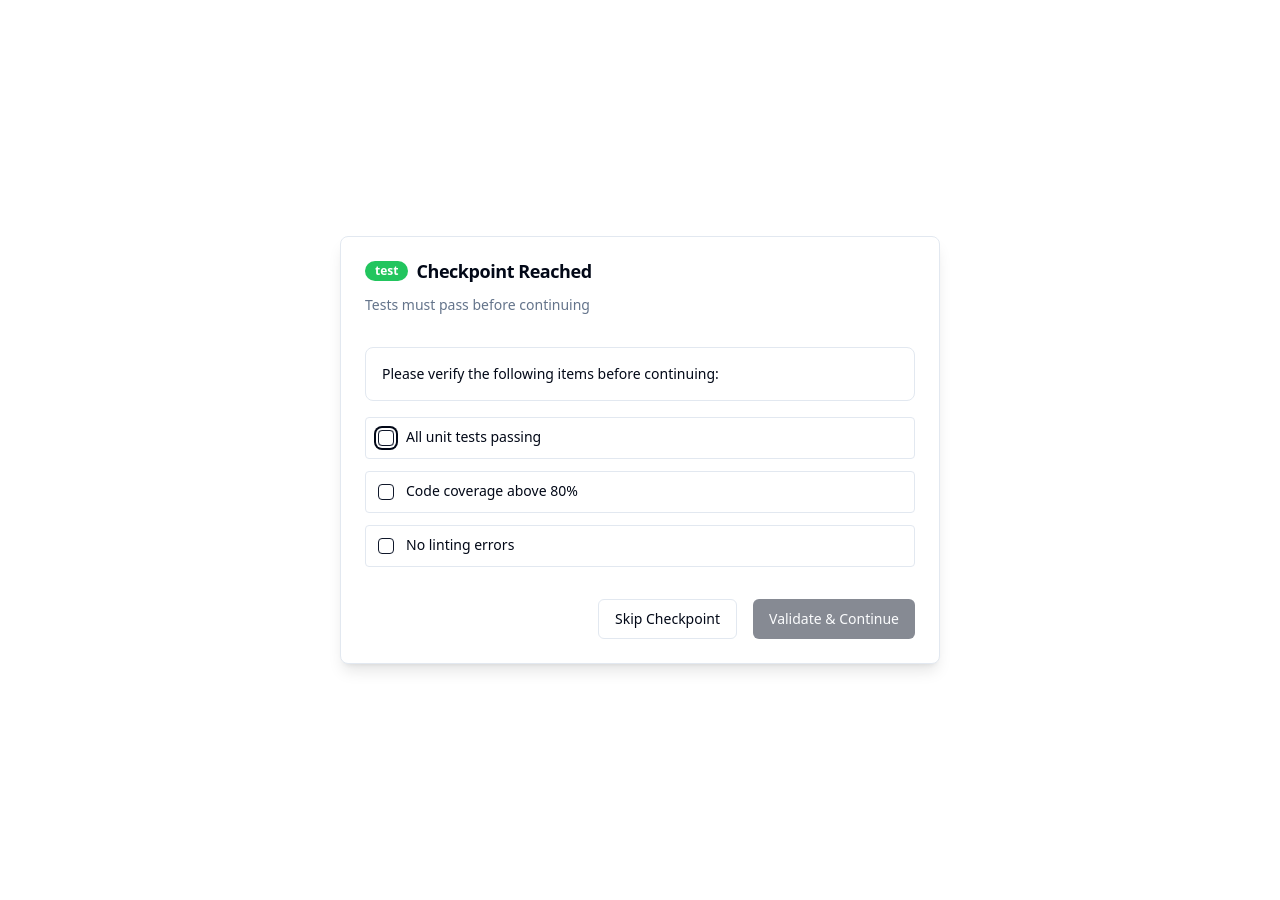
Test: CheckpointModal › Validation Completion › should enable continue button when all items are checked
Click the checkbox next to "All unit tests passing".
click(386, 438)  # box [378,430,394,446]
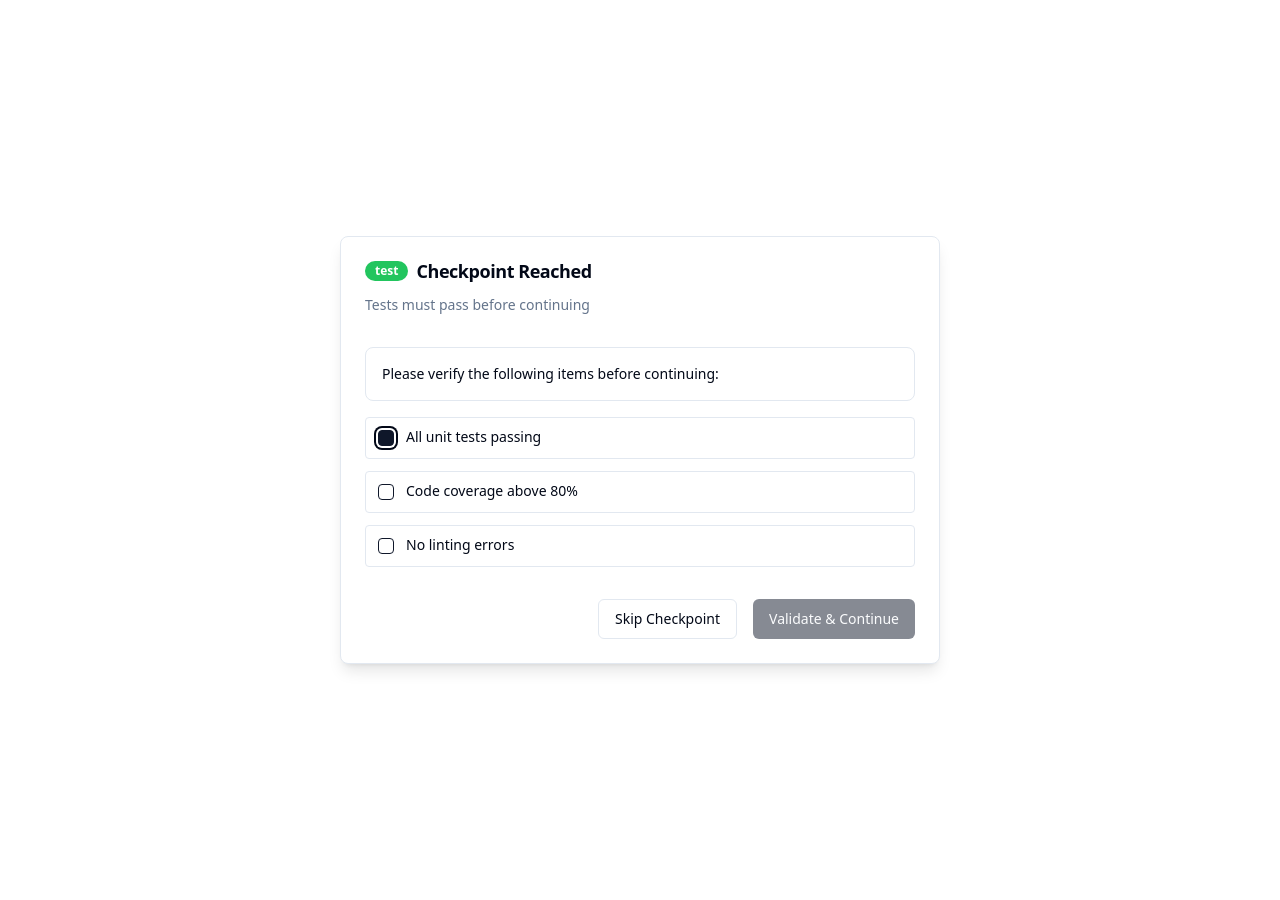
Click the checkbox next to "Code coverage above 80%".
click(386, 492)  # box [378,484,394,500]
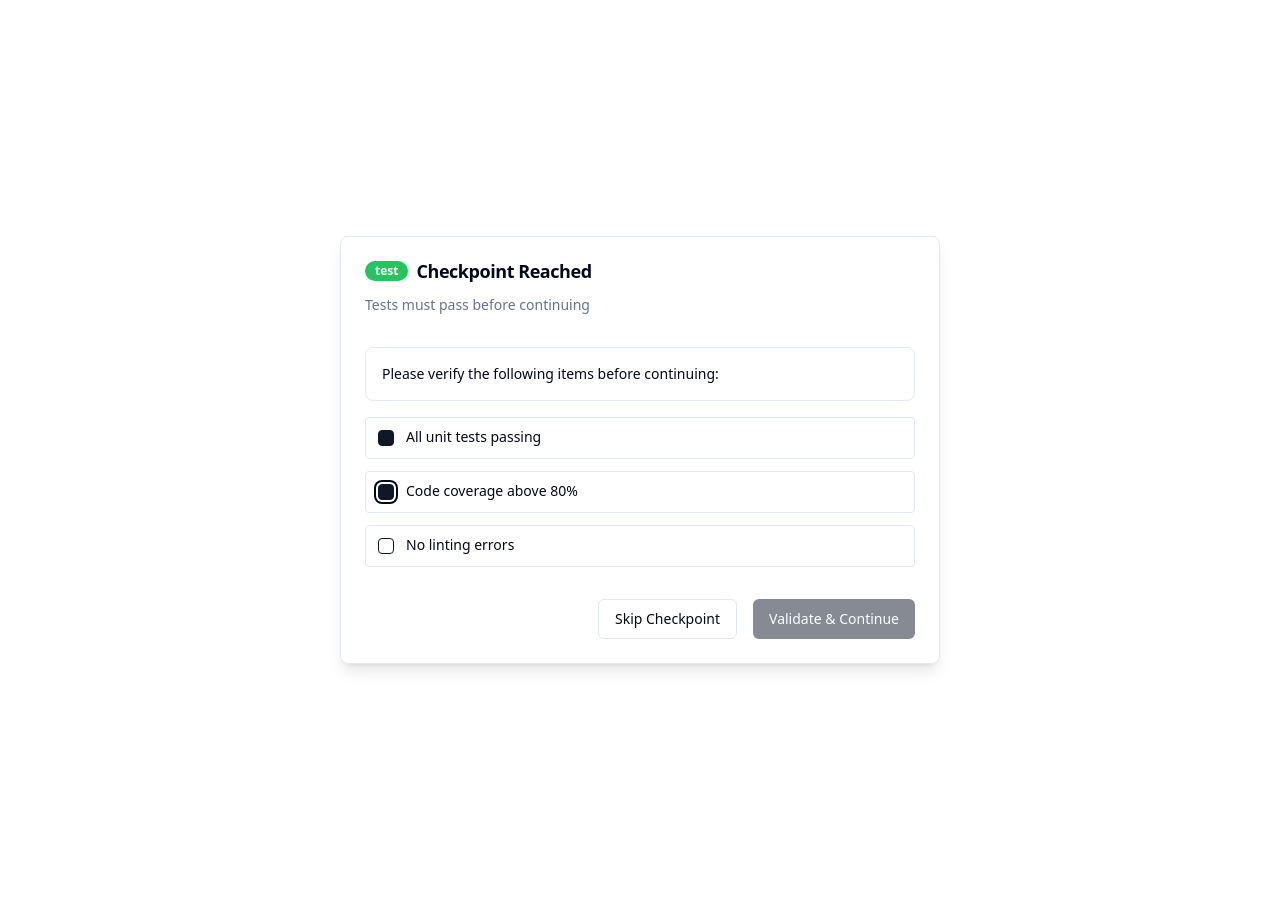
Click the checkbox next to "No linting errors".
click(386, 546)  # box [378,538,394,554]
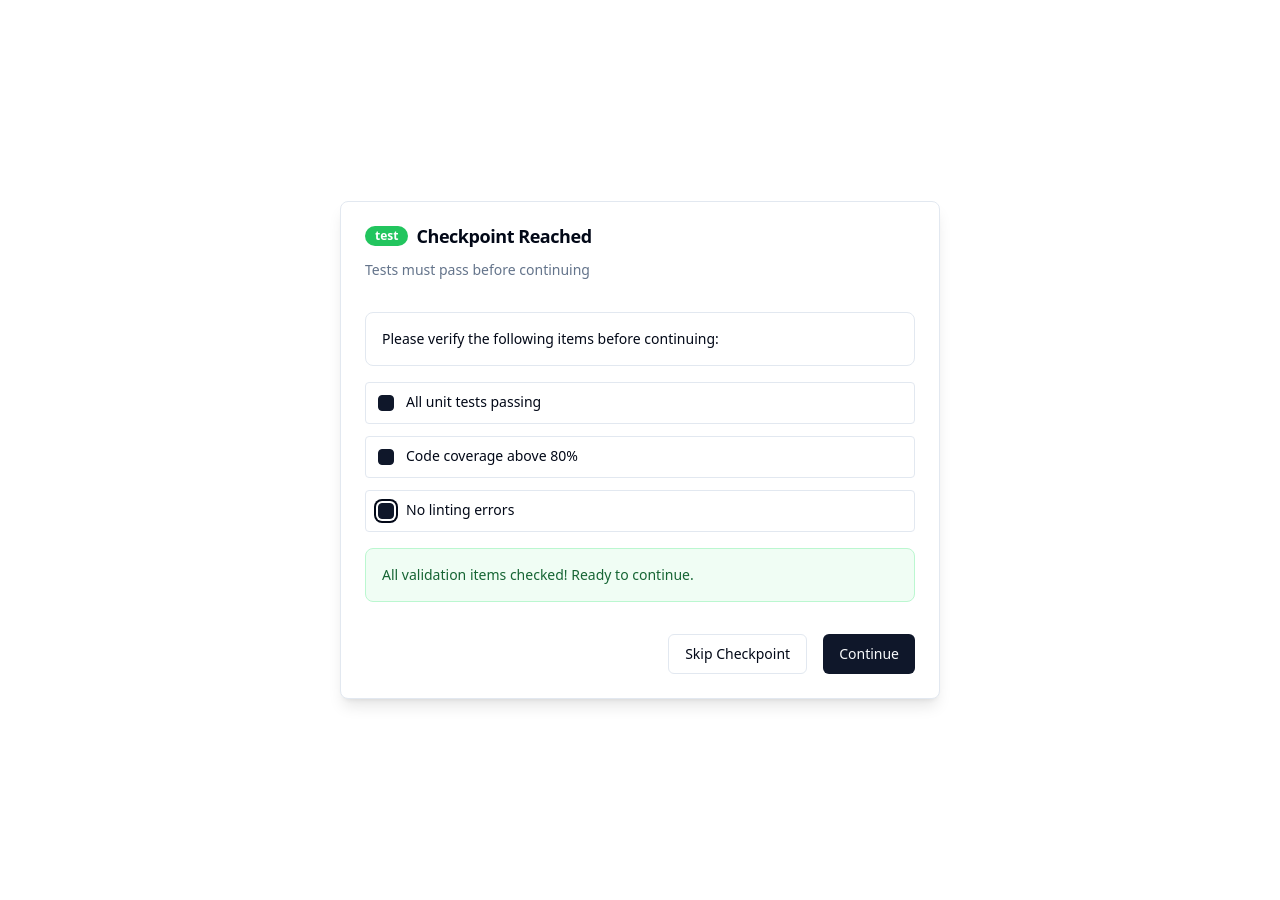
Now the button "Continue" is enabled, box [823,634,915,674]
